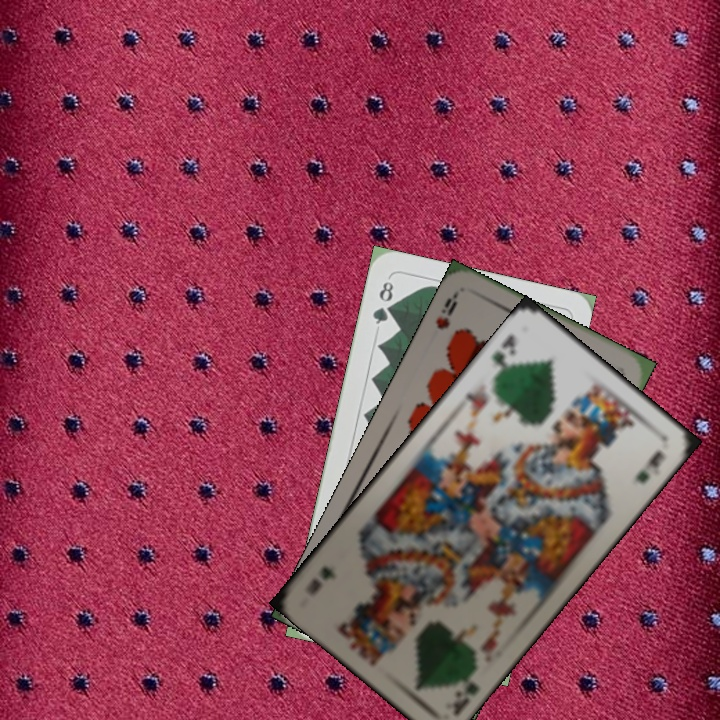G8: (368, 277, 396, 327)
GK: (448, 665, 482, 719), (488, 330, 519, 379)
H9: (431, 289, 460, 332)
